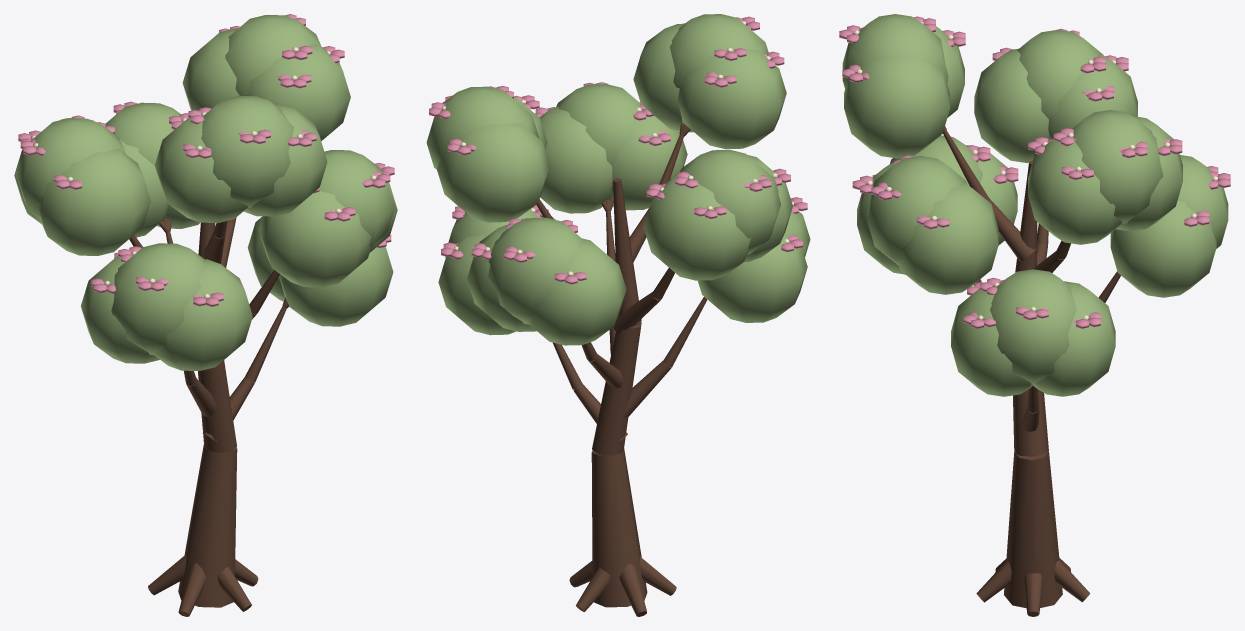
File: almanac-gardens-blossom-sapling-4a86a217__22035.glb
The picture shows the model from 3 angles, left to right: view 1: azimuth 30°, elevation 25°; view 2: azimuth 150°, elevation 25°; view 3: azimuth 270°, elevation 25°; orthographic projection. The views are drawn at different scales.
Parts seen in each view (by area): view 1: blossom-sapling-sage, blossom-sapling-bark, blossom-sapling-pink; view 2: blossom-sapling-sage, blossom-sapling-bark, blossom-sapling-pink; view 3: blossom-sapling-sage, blossom-sapling-bark, blossom-sapling-pink, blossom-sapling-ivory.
Part boxes in pixels (x1,y1,x2,y2): blossom-sapling-sage: (14,15,397,370); blossom-sapling-bark: (129,217,289,616); blossom-sapling-pink: (18,14,394,306); blossom-sapling-sage: (426,14,810,345); blossom-sapling-bark: (536,124,707,616); blossom-sapling-pink: (429,16,807,284); blossom-sapling-sage: (842,14,1228,396); blossom-sapling-bark: (943,126,1120,616); blossom-sapling-pink: (839,16,1230,328); blossom-sapling-ivory: (854,21,1217,320).
Bounding box in the file's own units: 1.23 × 1.89 × 1.19.
